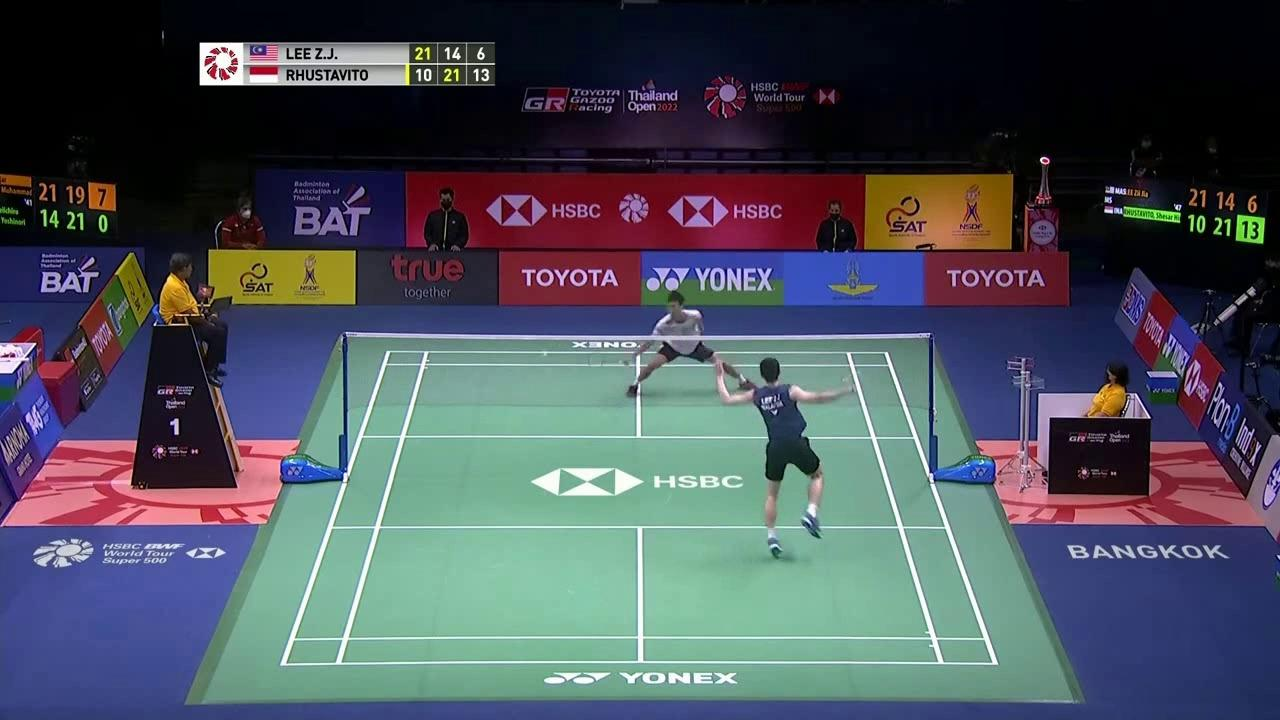racket: (585, 351, 636, 372), (841, 370, 866, 396)
shuttle: (539, 347, 549, 361)
